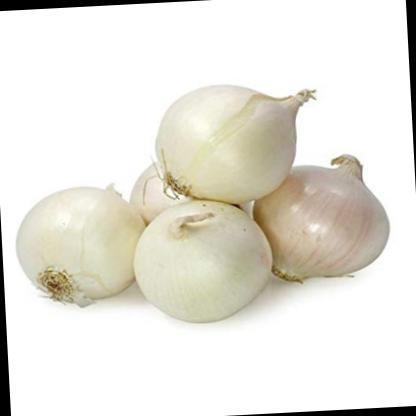onion: (148, 68, 309, 212), (10, 184, 141, 312)
